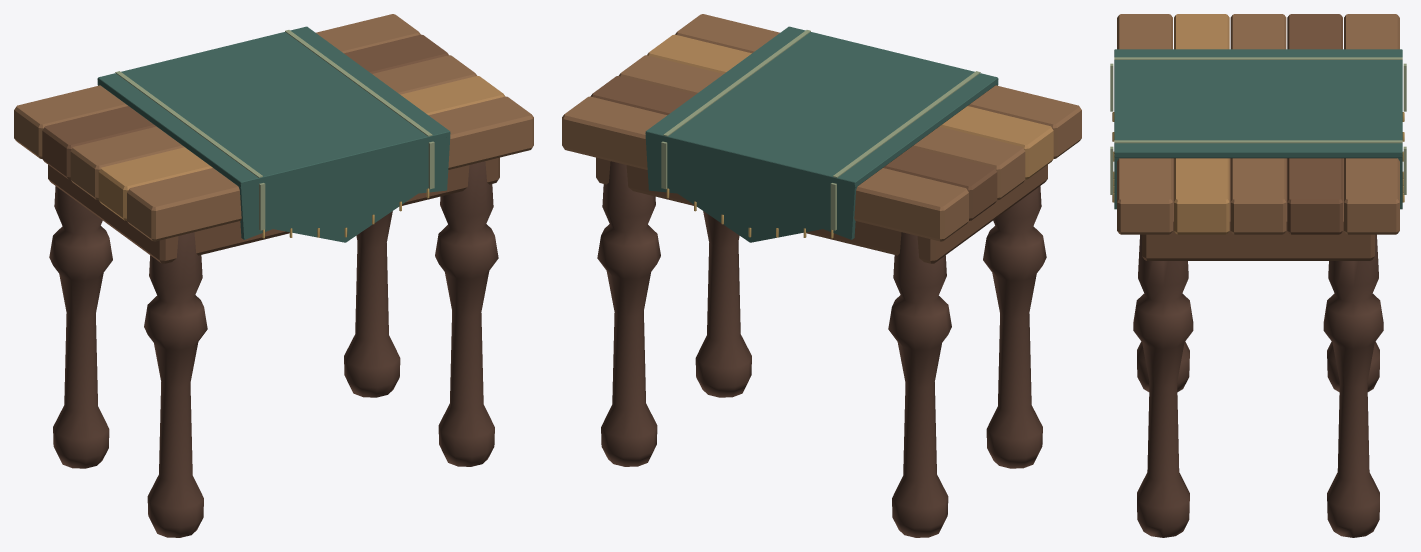
File: display_table.glb
The picture shows the model from 3 angles, left to right: view 1: azimuth 30°, elevation 25°; view 2: azimuth 150°, elevation 25°; view 3: azimuth 270°, elevation 25°; orthographic projection.
Visible parts, largest first — view 1: display_table; view 2: display_table; view 3: display_table.
Part boxes in pixels (x1,y1,x2,y2): display_table: (14,14,533,537); display_table: (562,14,1081,537); display_table: (1110,14,1406,537).
Size of the model in its own units: 0.9 by 0.8 by 0.6.
